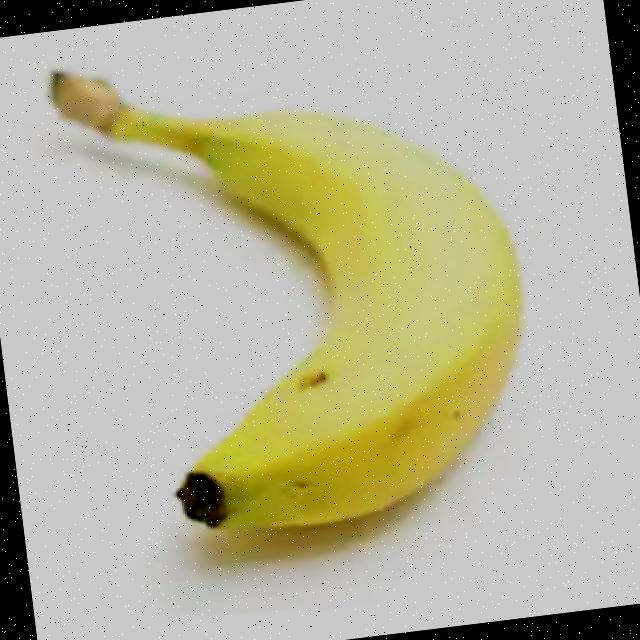Ripe: (11, 10, 564, 587)
